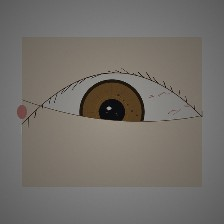pterygium_lesion: (23, 97, 60, 127)
